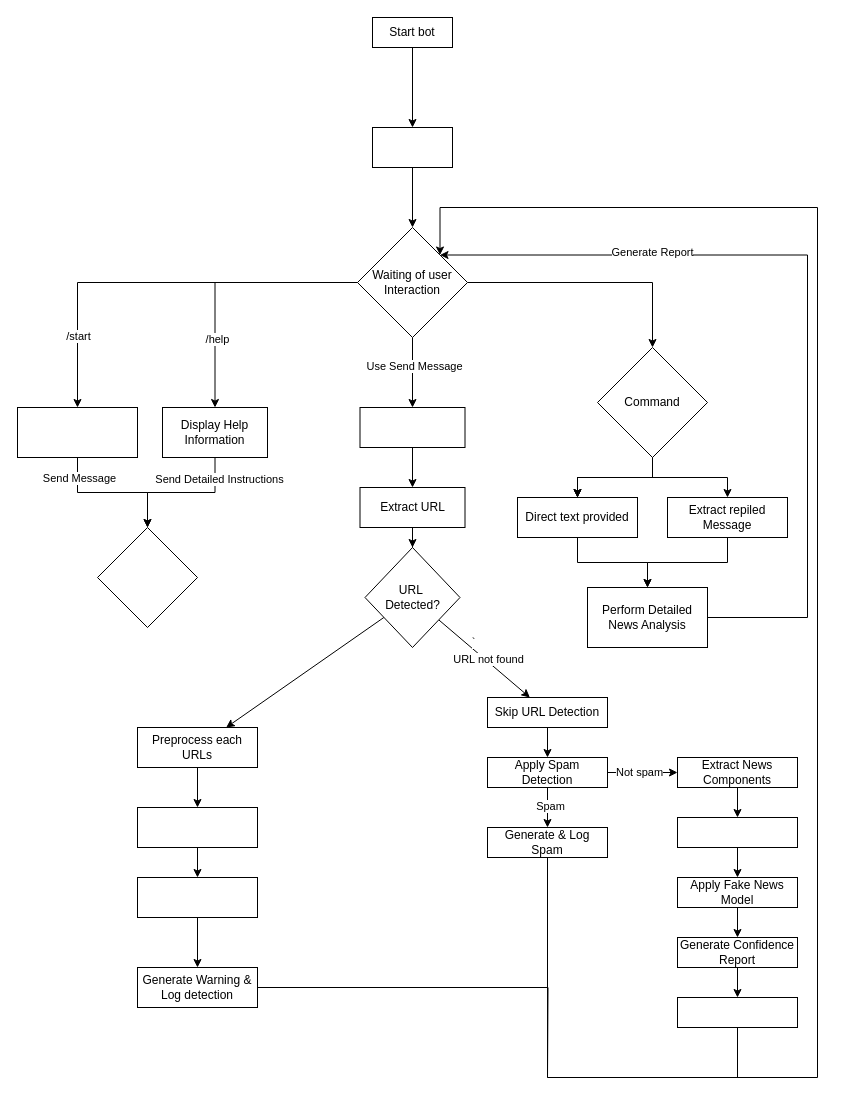
The diagram is 843 pixels wide and 1103 high, and some of its shapes have lost their labels. Each missing label, with the centre of its shape:
"Apply Link Vectoriser" goes at point (197, 827).
"Generate Welcome Message" goes at point (77, 432).
"Intialise Models" goes at point (412, 147).
"Log Fake News Detection" goes at point (737, 1012).
"Predict Malicious Link" goes at point (197, 897).
"Prepare Title and Content" goes at point (737, 832).
"Preprocess Message" goes at point (412, 427).
"Validate Command" goes at point (147, 577).
